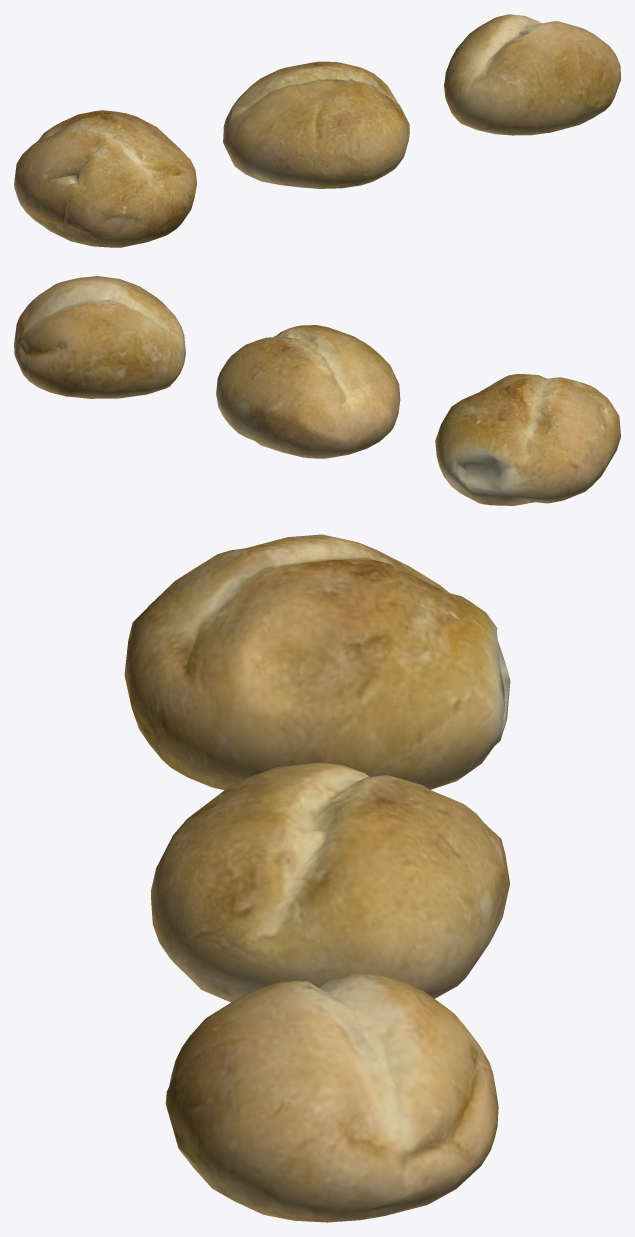
File: hamburger_buns.glb
The picture shows the model from 3 angles, top to bottom: view 1: azimuth 30°, elevation 25°; view 2: azimuth 150°, elevation 25°; view 3: azimuth 270°, elevation 25°; orthographic projection. The views are drawn at different scales.
Visible parts, largest first — view 1: hamburger_buns_01, hamburger_buns_02, hamburger_buns_03; view 2: hamburger_buns_01, hamburger_buns_02, hamburger_buns_03; view 3: hamburger_buns_01, hamburger_buns_02, hamburger_buns_03.
Part boxes in pixels (x1,y1,x2,y2): hamburger_buns_01: [14, 110, 196, 247]; hamburger_buns_02: [223, 61, 409, 188]; hamburger_buns_03: [444, 14, 620, 135]; hamburger_buns_01: [435, 374, 620, 505]; hamburger_buns_02: [216, 325, 400, 458]; hamburger_buns_03: [14, 276, 185, 398]; hamburger_buns_01: [124, 534, 510, 789]; hamburger_buns_02: [151, 763, 509, 1002]; hamburger_buns_03: [165, 974, 498, 1222].
Size of the model in its own units: 0.3972 by 0.0634 by 0.1138.
Materials: 1 (1 with a texture image).
